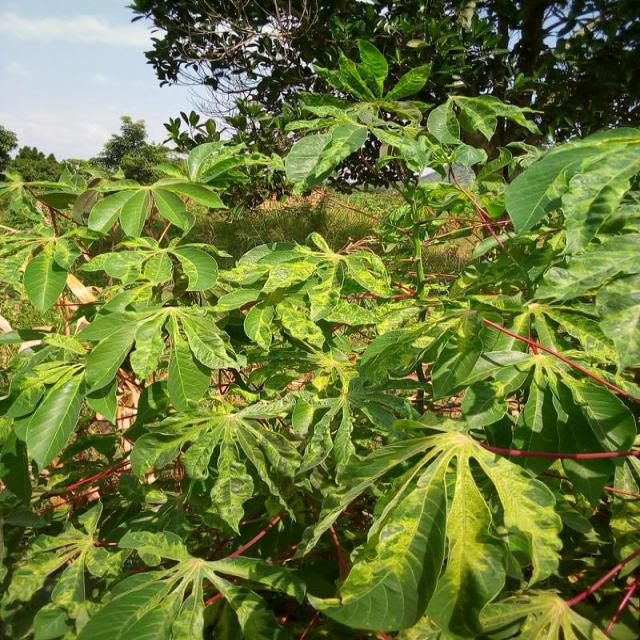cassava leaf: (311, 426, 565, 636)
